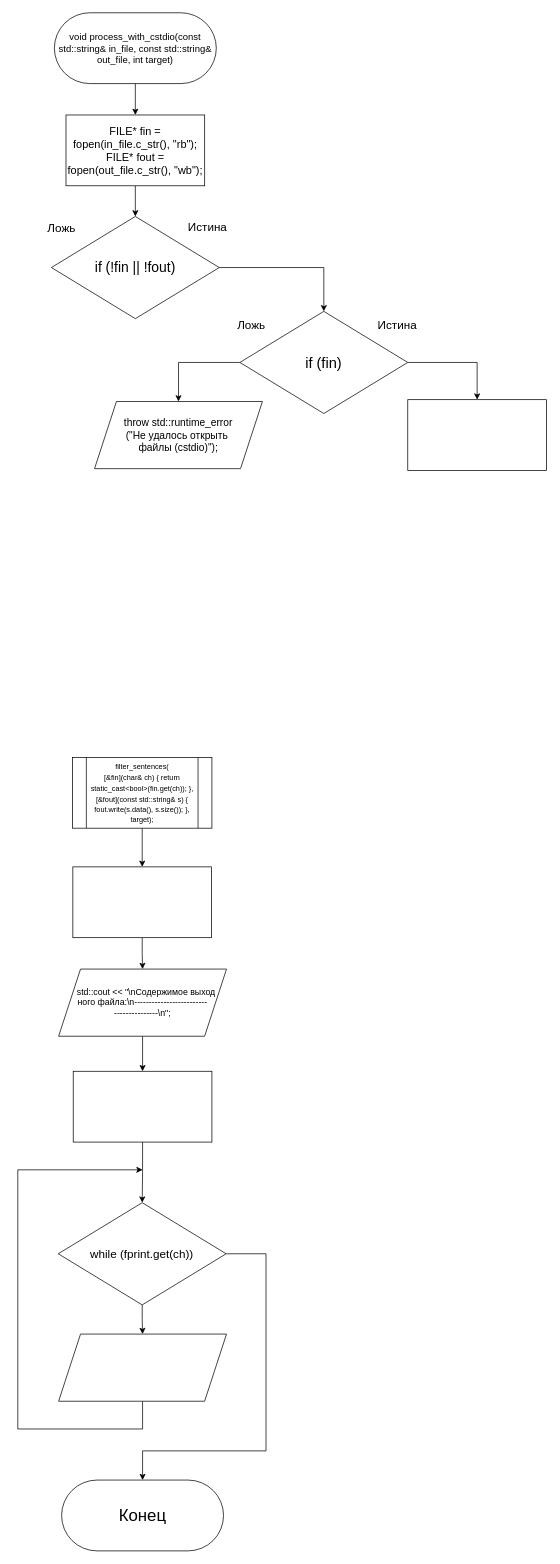
The diagram is 560 pixels wide and 1564 high, and some of its shapes have lost their labels. The centre of each missing label's shape, as x and y in pixels:
fclose(fin);: (476,434)
fin.close(); fout.close(); std::ifstream fprint(out_file,std::ios ::binary);: (142,902)
int c;: (142,1106)
std::cout << ch;: (142,1367)
